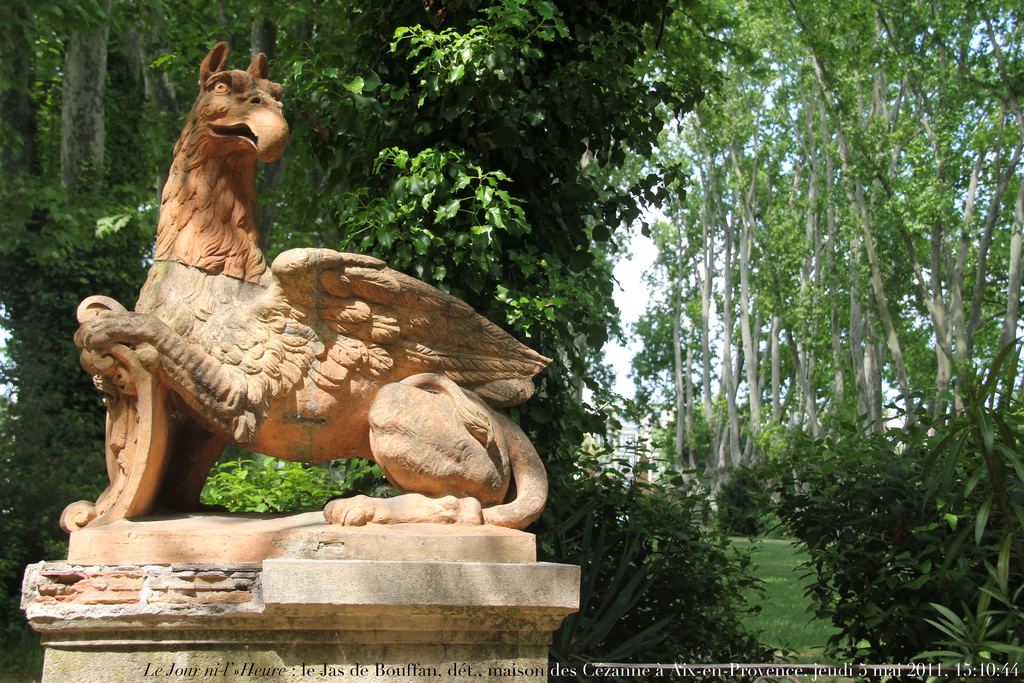Tree: (0, 0, 1023, 541)
